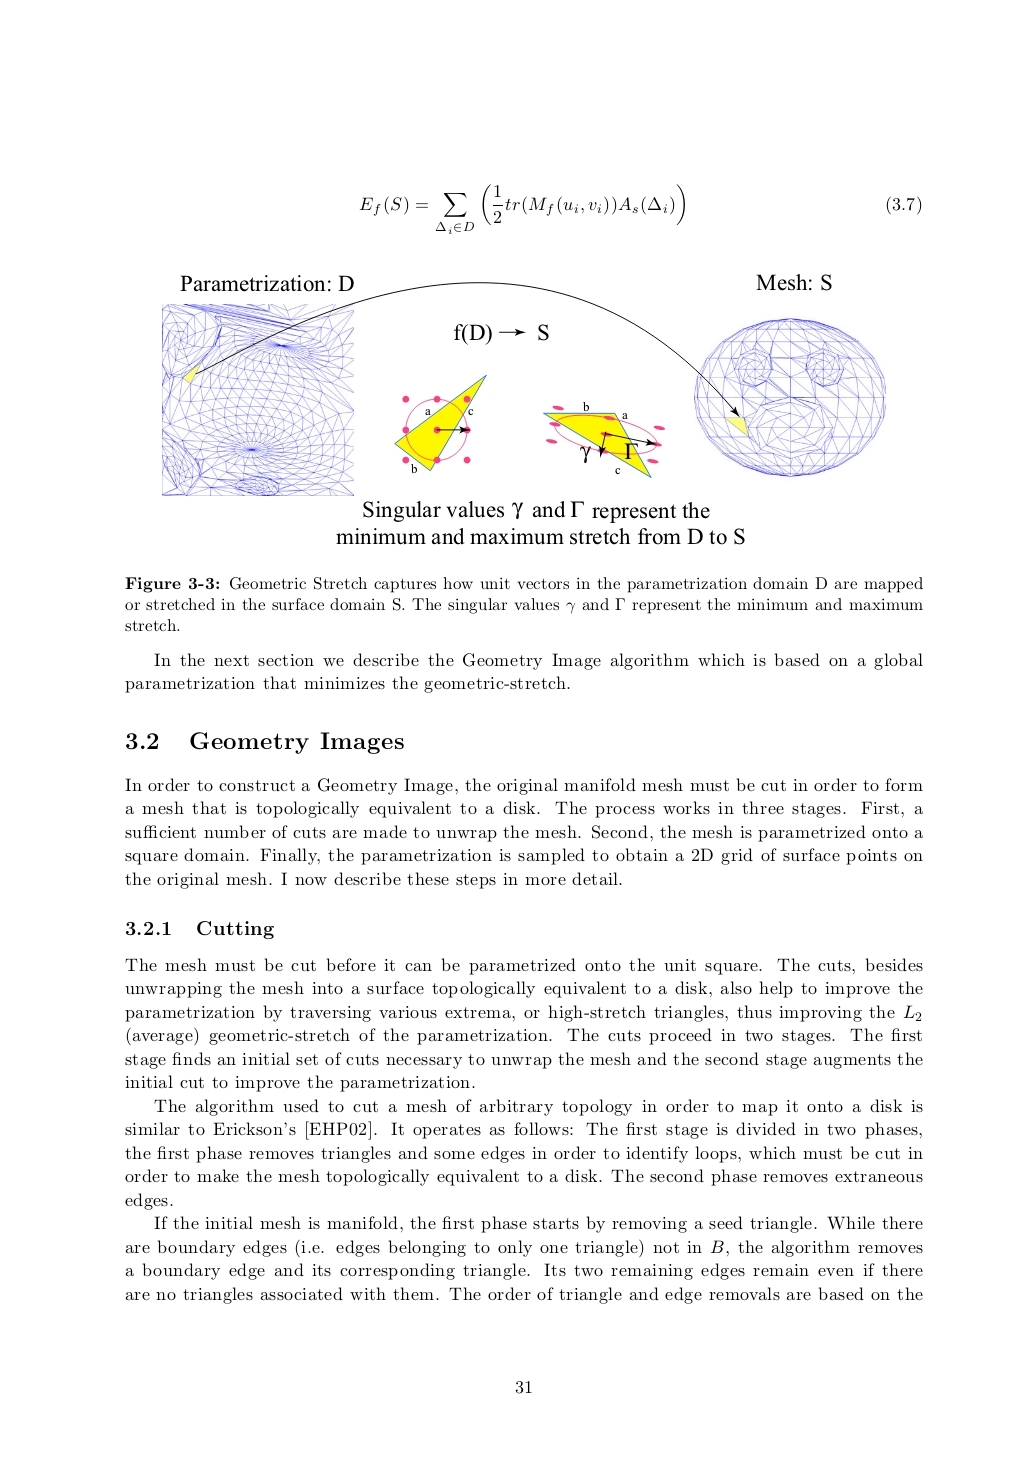figure: (162, 272, 885, 496)
formula: (359, 183, 921, 234)
